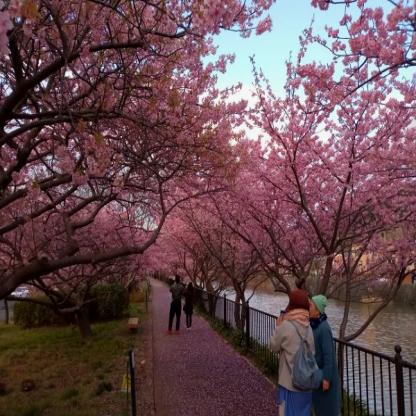KawazuSakura: (2, 0, 270, 302), (124, 0, 416, 276)
